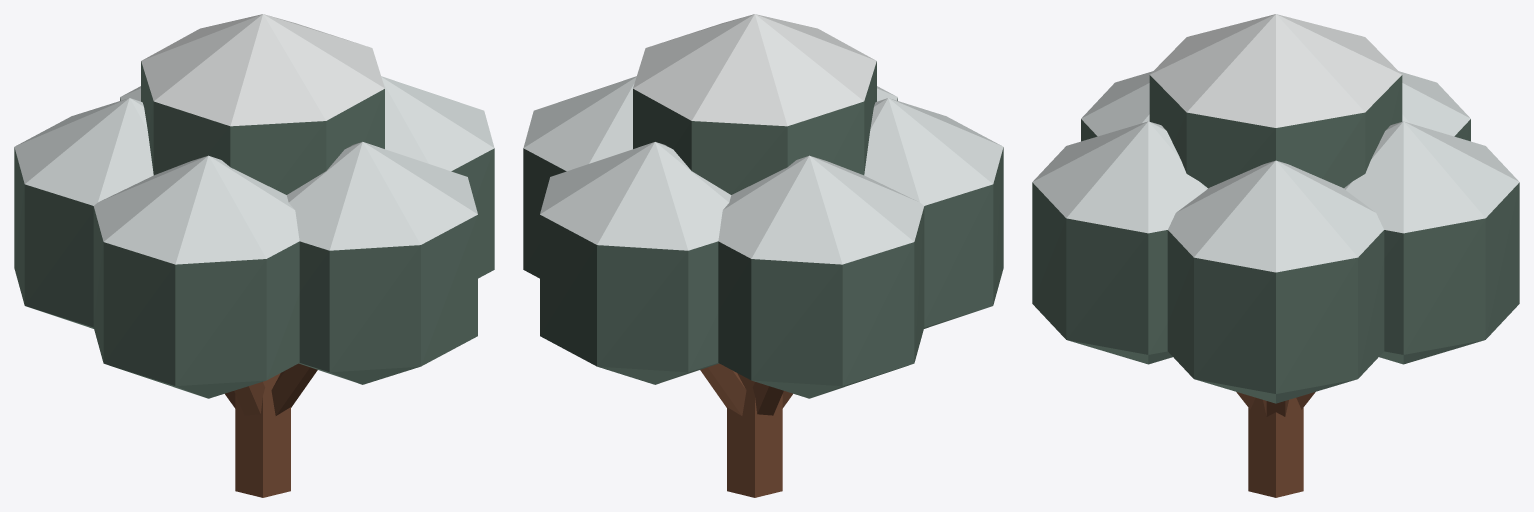
File: bush_winter.glb
The picture shows the model from 3 angles, left to right: view 1: azimuth 30°, elevation 25°; view 2: azimuth 150°, elevation 25°; view 3: azimuth 270°, elevation 25°; orthographic projection.
Visible parts, largest first — view 1: geometry; view 2: geometry; view 3: geometry.
Part boxes in pixels (x1,y1,x2,y2): geometry: (14, 14, 494, 497); geometry: (523, 14, 1003, 497); geometry: (1032, 14, 1519, 497).
Size of the model in its own units: 0.8318 by 0.89 by 0.8359.
